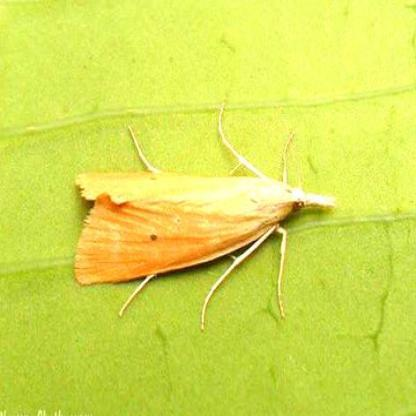stem-borer: (72, 150, 340, 298)
